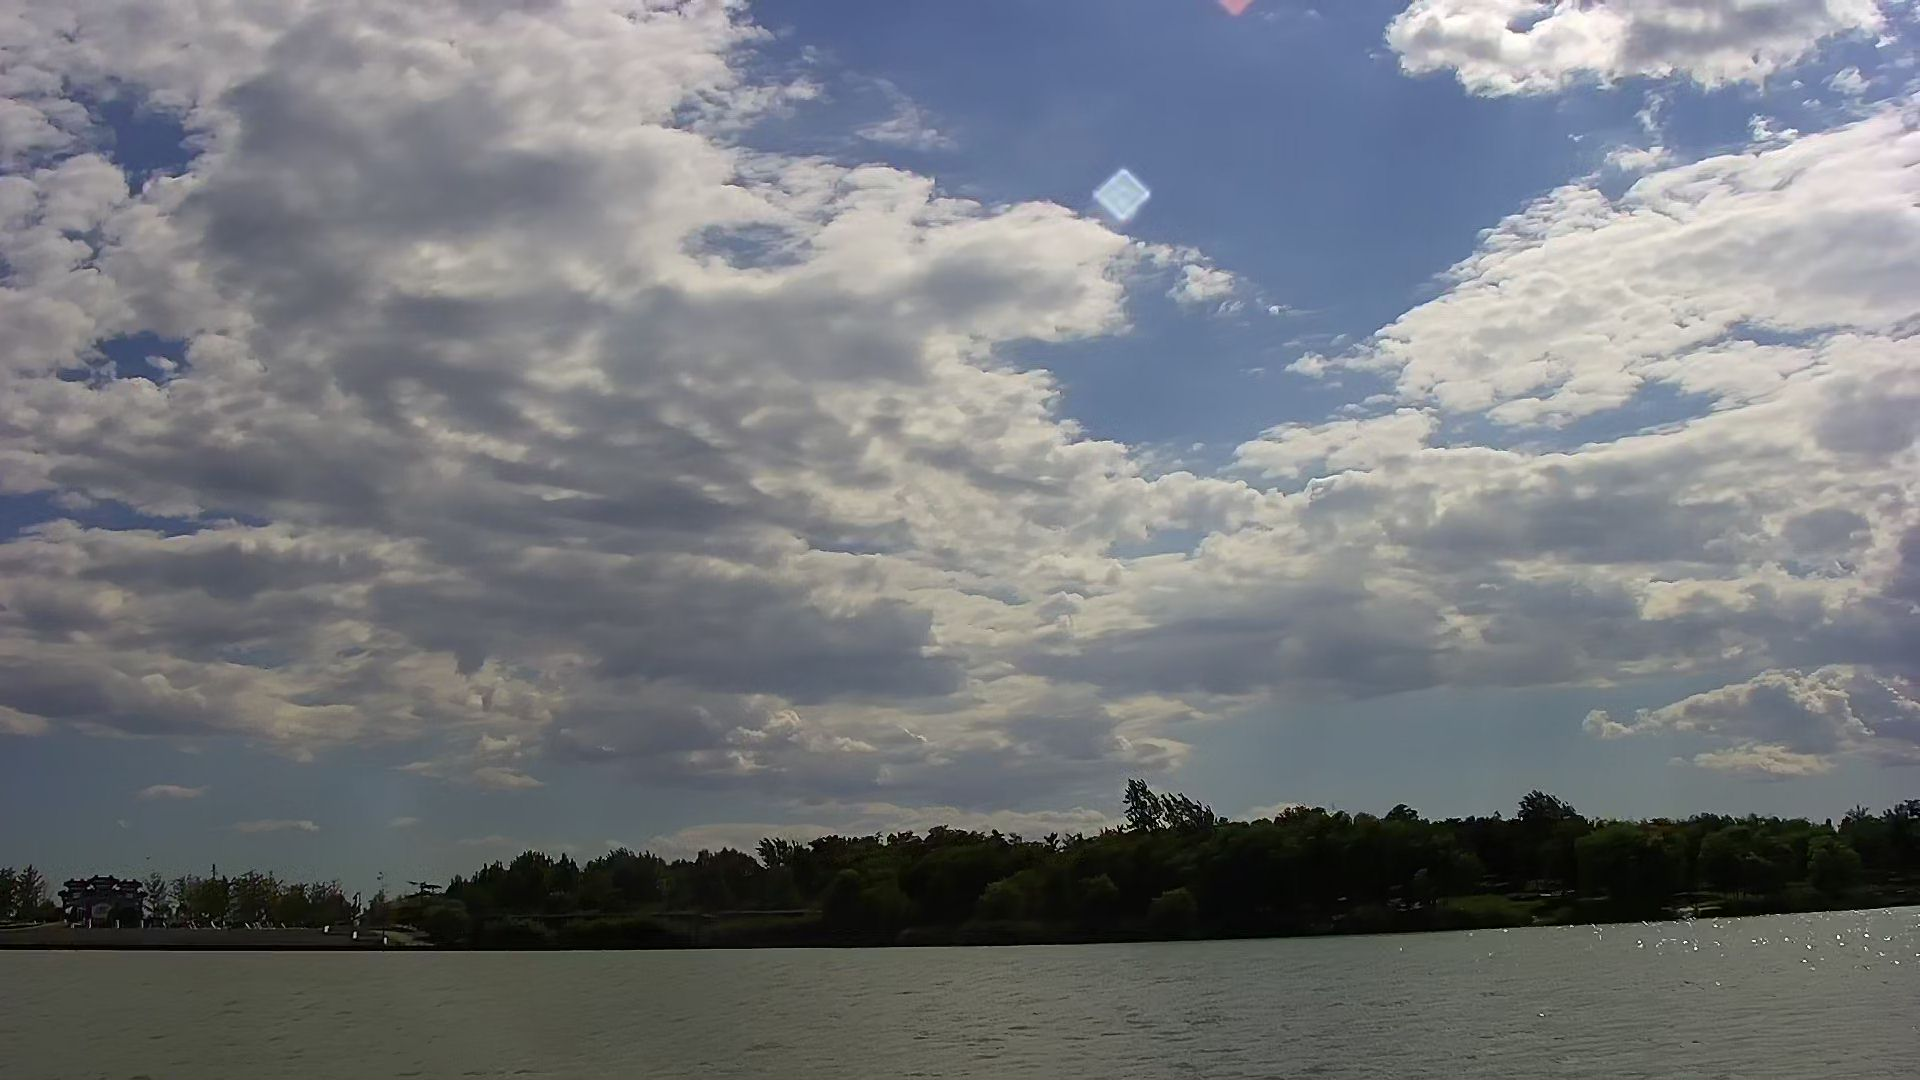harbor: (13, 909, 454, 955)
